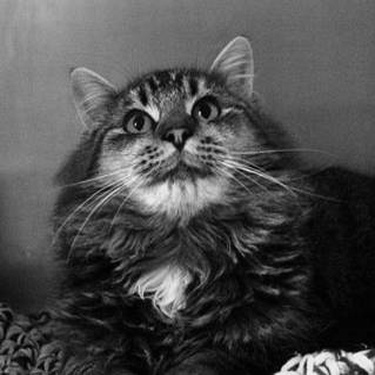cat: (5, 34, 369, 372)
